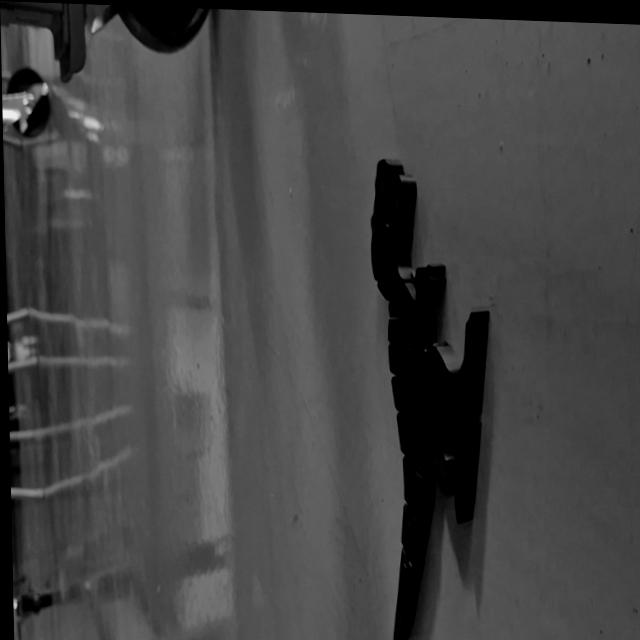dino: (368, 155, 499, 640)
